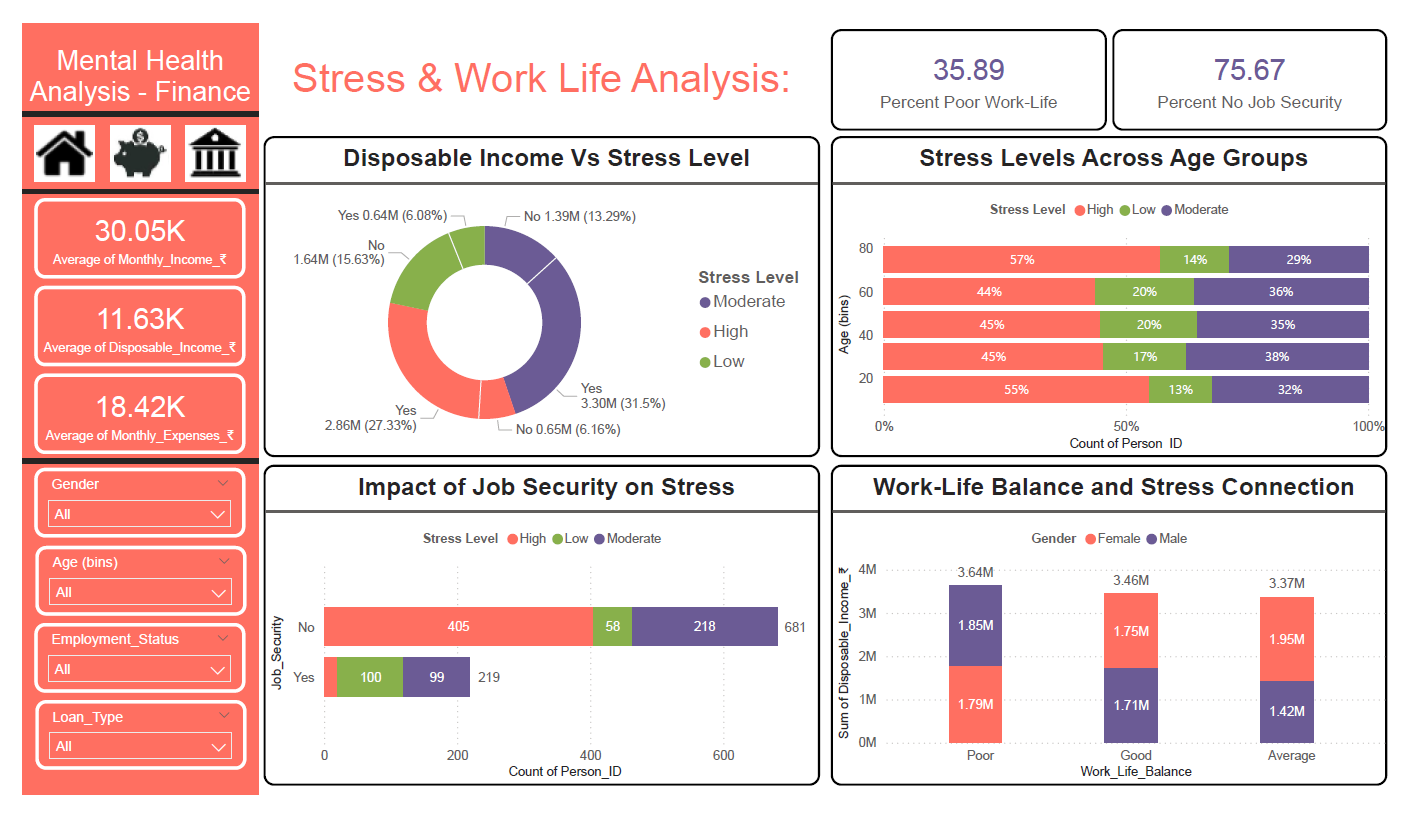

Layout of this report page (visuals, bound fields, positions):
{"tool":"powerbi","page":{"name":"Stress & Work-Life Analysis","canvas":[1280,720],"ordinal":1},"visuals":[{"type":"shape","box":[0,0,220,720.3],"z":0},{"type":"card","fields":{"Values":["Avg(Finance_Dataset.Disposable_Income_₹)"]},"box":[11.2,245,196.5,75],"z":1000},{"type":"card","fields":{"Values":["Avg(Finance_Dataset.Monthly_Expenses_₹)"]},"box":[11.2,327,196.5,75],"z":2000},{"type":"card","fields":{"Values":["Avg(Finance_Dataset.Monthly_Income_₹)"]},"box":[11.2,163,196.5,75],"z":3000},{"type":"textbox","title":"Mental Health Analysis - Finance","box":[0,15,220.2,70],"z":4000},{"type":"slicer","fields":{"Values":["Finance_Dataset.Gender"]},"box":[11.2,415,196.5,65],"z":5000},{"type":"actionButton","box":[11.2,94.5,56,52],"z":6000},{"type":"actionButton","box":[82.1,94.5,56,52],"z":7000},{"type":"actionButton","box":[151.8,94.5,56,52],"z":8000},{"type":"slicer","fields":{"Values":["Finance_Dataset.Age (bins)"]},"box":[12.4,488,196.5,65],"z":9000},{"type":"slicer","fields":{"Values":["Finance_Dataset.Employment_Status"]},"box":[11.2,560,196.5,65],"z":10000},{"type":"slicer","fields":{"Values":["Finance_Dataset.Loan_Type"]},"box":[12.4,632,196.5,65],"z":11000},{"type":"shape","box":[0,401.8,220.2,13],"z":12000},{"type":"shape","box":[0,150.5,220.2,12.4],"z":13000},{"type":"shape","box":[0,78.4,220.2,12.4],"z":14000},{"type":"donutChart","title":"Disposable Income Vs Stress Level","fields":{"Category":["Finance_Dataset.Stress_Level"],"Y":["Sum(Finance_Dataset.Disposable_Income_₹)"],"Series":["Finance_Dataset.Has_Debt"]},"box":[225,105,520,300],"z":15000},{"type":"ribbonChart","title":"Work-Life Balance and Stress Connection","fields":{"Category":["Finance_Dataset.Work_Life_Balance"],"Y":["Sum(Finance_Dataset.Disposable_Income_₹)"],"Series":["Finance_Dataset.Gender"]},"box":[755,412,520,300],"z":16000},{"type":"barChart","title":"Impact of Job Security on Stress","fields":{"Series":["Finance_Dataset.Stress_Level"],"Category":["Finance_Dataset.Job_Security"],"Y":["CountNonNull(Finance_Dataset.Person_ID)"]},"box":[225.2,412,520,300],"z":17000},{"type":"hundredPercentStackedBarChart","title":"Stress Levels Across Age Groups","fields":{"Y":["CountNonNull(Finance_Dataset.Person_ID)"],"Category":["Finance_Dataset.Age (bins)"],"Series":["Finance_Dataset.Stress_Level"]},"box":[755,105,520,300],"z":18000},{"type":"textbox","title":"Main Dashboard Overview","box":[225,25,520,60],"z":19000},{"type":"card","fields":{"Values":["Finance_Dataset.Percent Poor Work-Life"]},"box":[755,5,258,95],"z":20000},{"type":"card","fields":{"Values":["Finance_Dataset.Percent No Job Security"]},"box":[1017.5,5,257.5,95],"z":21000}]}

Visuals, with their boxes in screenshot pixels (x1, y1, x2, y2), scaled from the page's 1280x720 canvas onto the 1414x818 screenshot:
shape: 0 0 243 817
card - Avg(Finance_Dataset.Disposable_Income_₹): 12 278 229 364
card - Avg(Finance_Dataset.Monthly_Expenses_₹): 12 372 229 457
card - Avg(Finance_Dataset.Monthly_Income_₹): 12 185 229 270
"Mental Health Analysis - Finance" textbox: 0 17 243 97
slicer - Finance_Dataset.Gender: 12 471 229 545
actionButton: 12 107 74 166
actionButton: 91 107 153 166
actionButton: 168 107 230 166
slicer - Finance_Dataset.Age (bins): 14 554 231 628
slicer - Finance_Dataset.Employment_Status: 12 636 229 710
slicer - Finance_Dataset.Loan_Type: 14 718 231 792
shape: 0 456 243 471
shape: 0 171 243 185
shape: 0 89 243 103
"Disposable Income Vs Stress Level" donutChart: 249 119 823 460
"Work-Life Balance and Stress Connection" ribbonChart: 834 468 1408 809
"Impact of Job Security on Stress" barChart: 249 468 823 809
"Stress Levels Across Age Groups" hundredPercentStackedBarChart: 834 119 1408 460
"Main Dashboard Overview" textbox: 249 28 823 97
card - Finance_Dataset.Percent Poor Work-Life: 834 6 1119 114
card - Finance_Dataset.Percent No Job Security: 1124 6 1408 114
